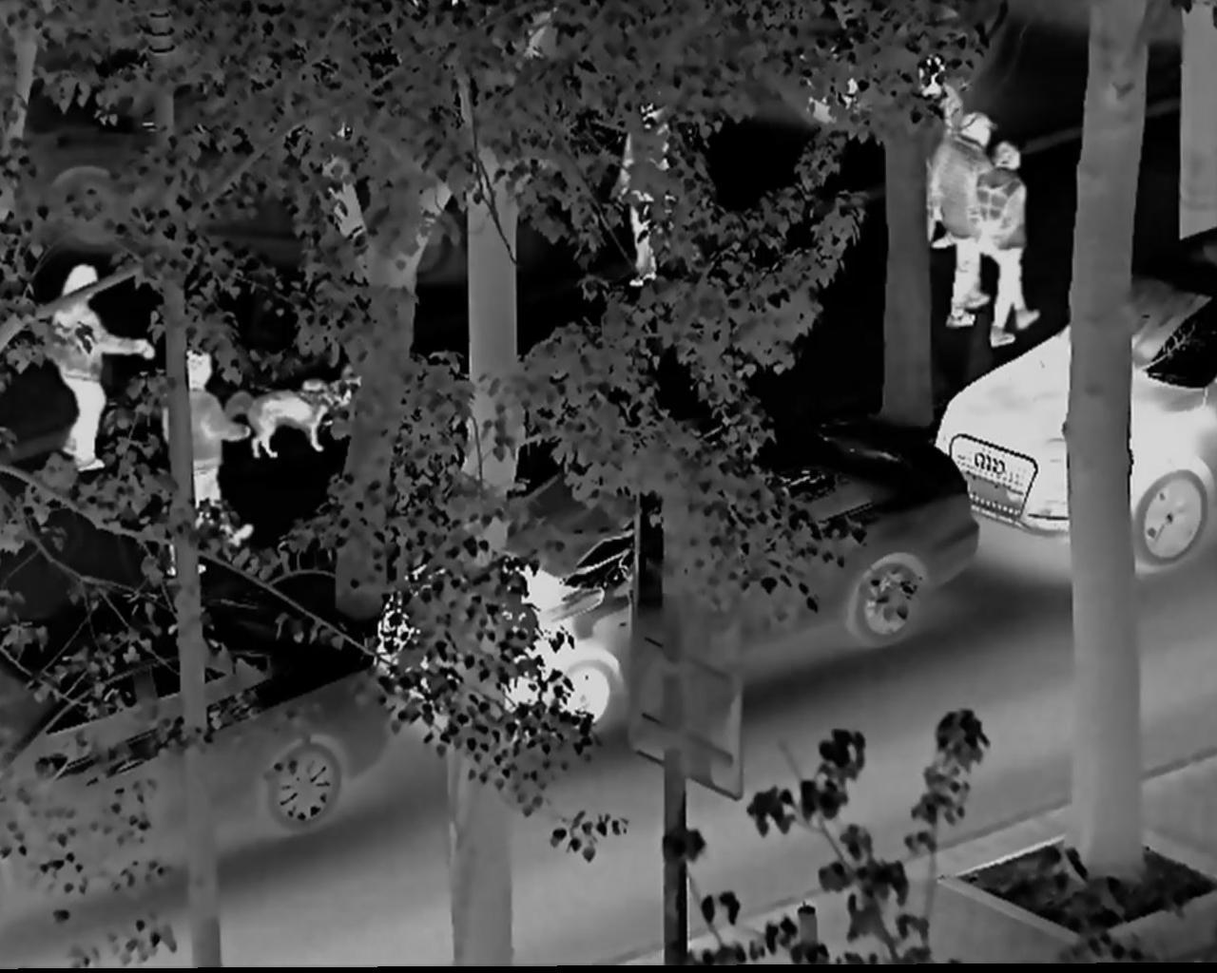person: (36, 258, 145, 481), (158, 352, 256, 577), (981, 136, 1047, 353), (939, 101, 999, 337)
